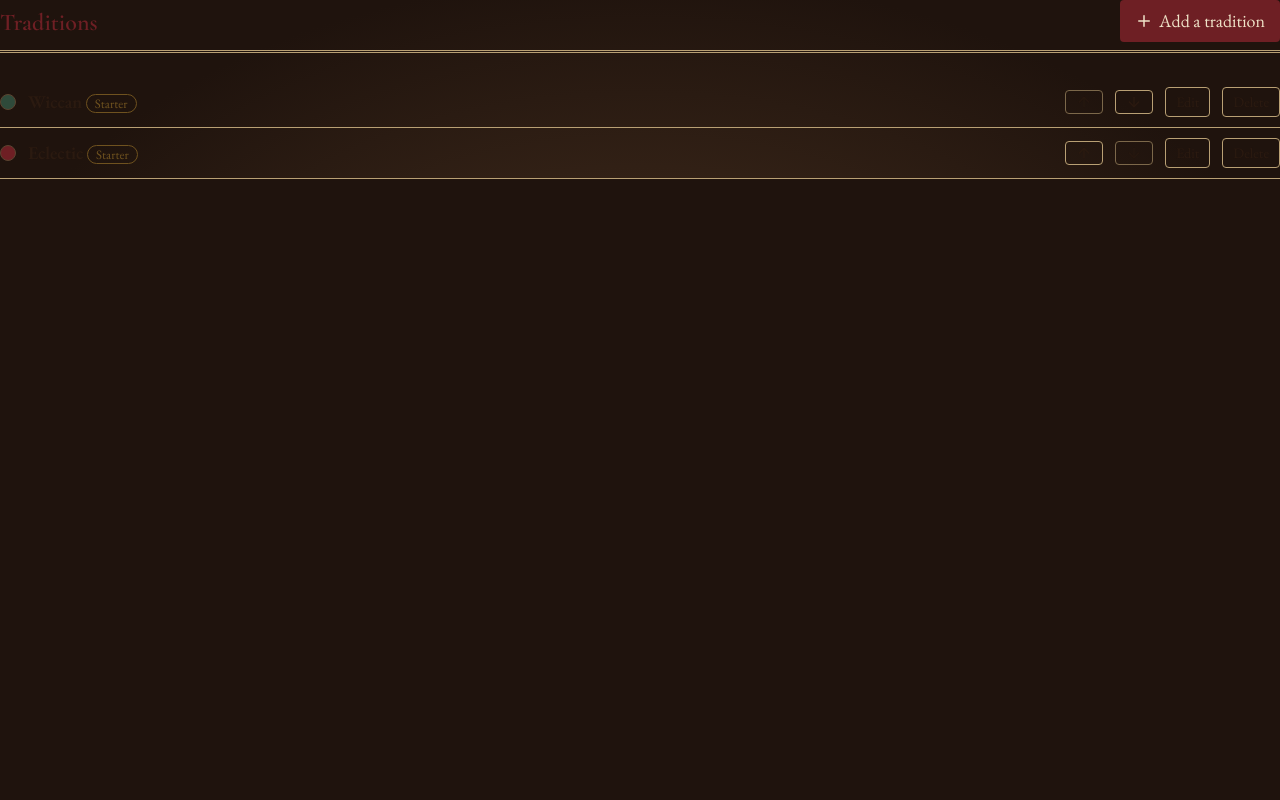
Traditions › shows the conflict dialog on a stale save
Click the button "Edit" in the row of "Wiccan". click: click(1188, 102)
box: [1165,87,1210,117]
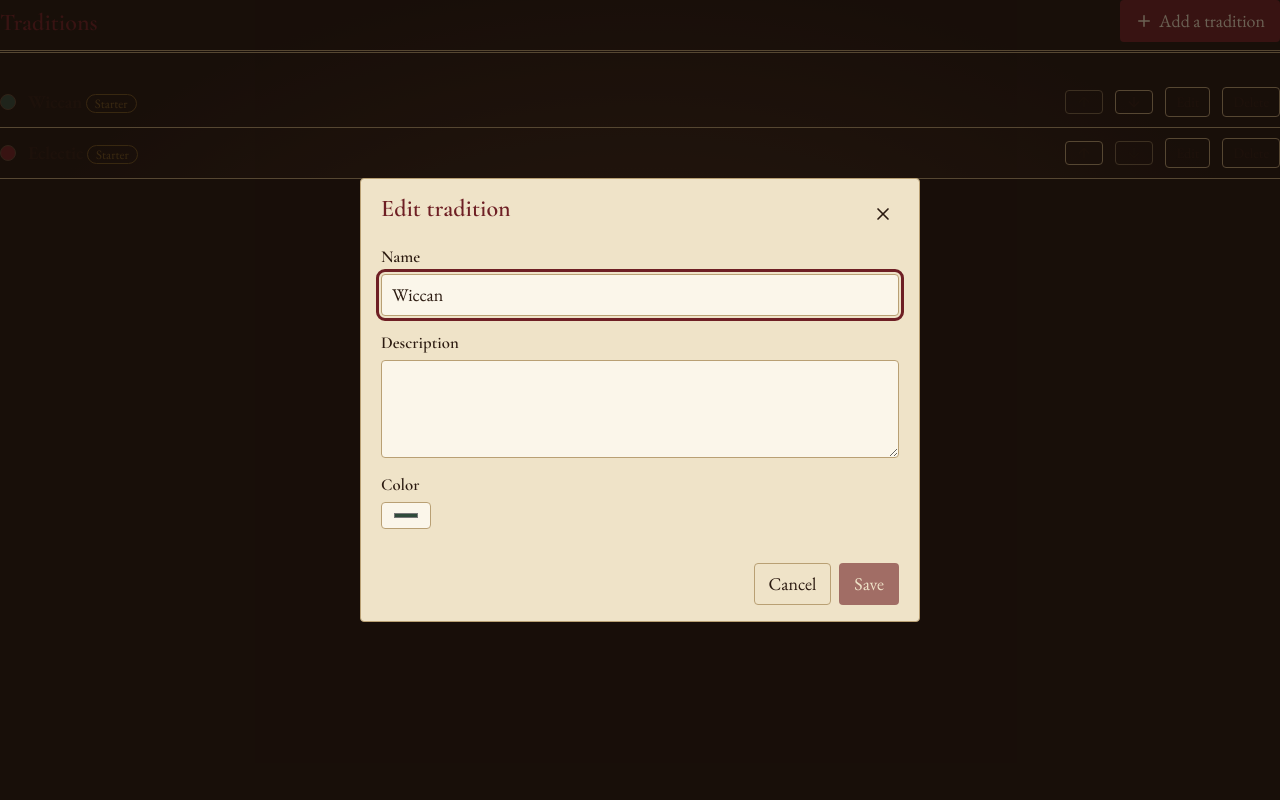
Type "x" into the text box labelled "Description". click: (640, 409)
box: [381,360,899,458]
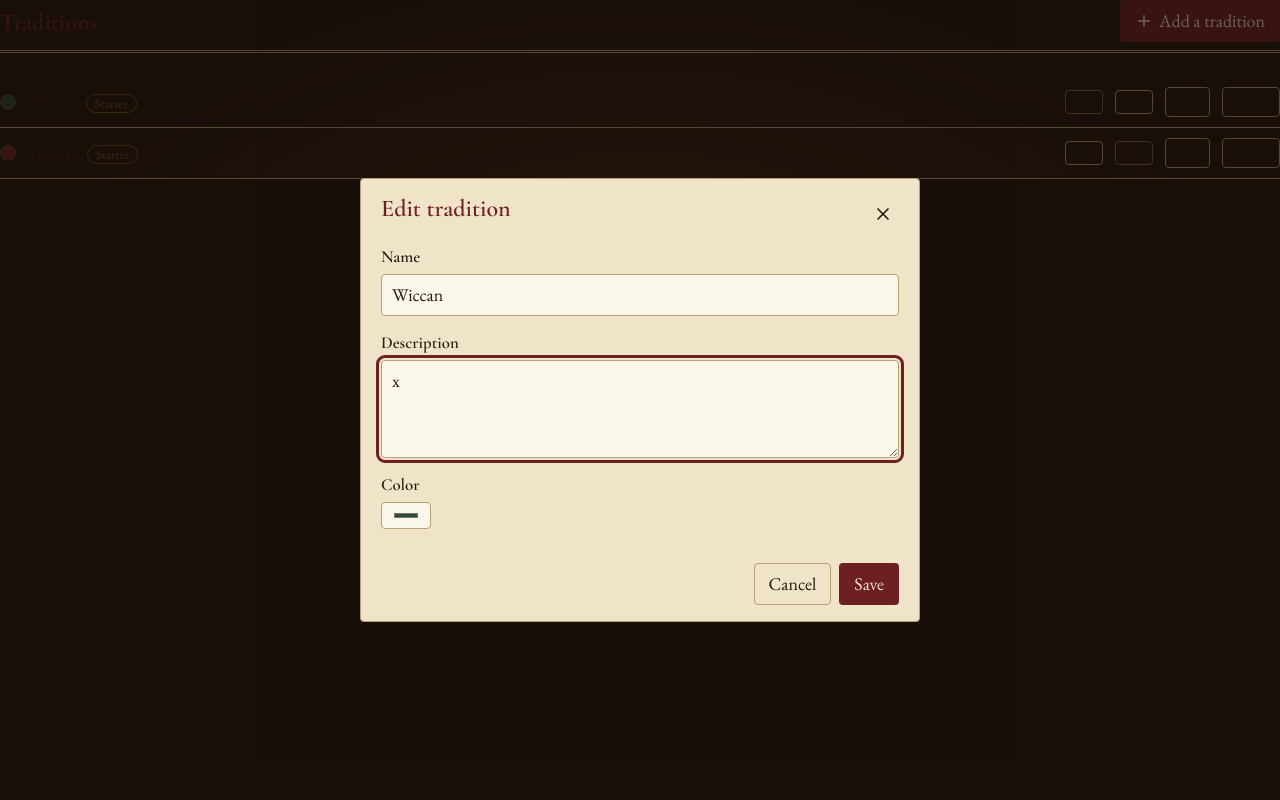
Click the button "Save". click: click(869, 584)
box: [839,563,899,605]
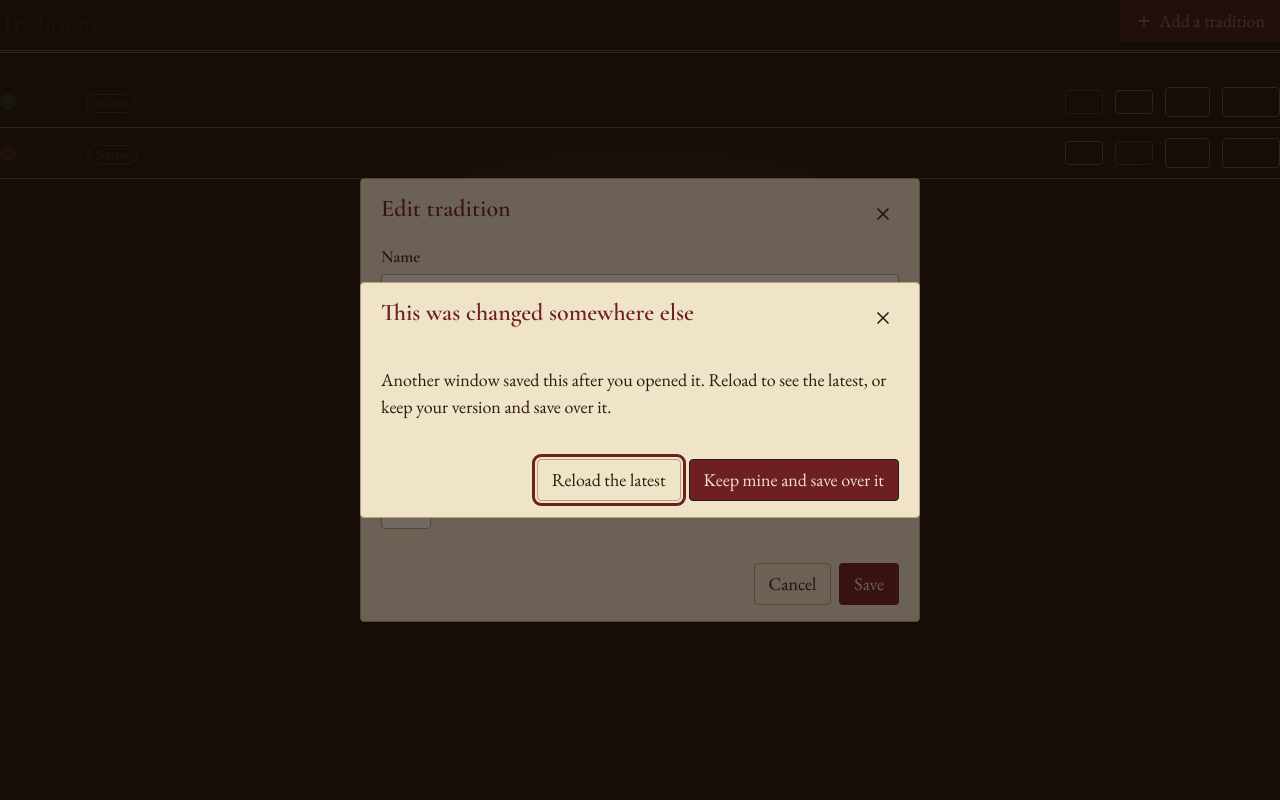
Check: the heading "This was changed somewhere else" is shown, box [381,299,694,328]
